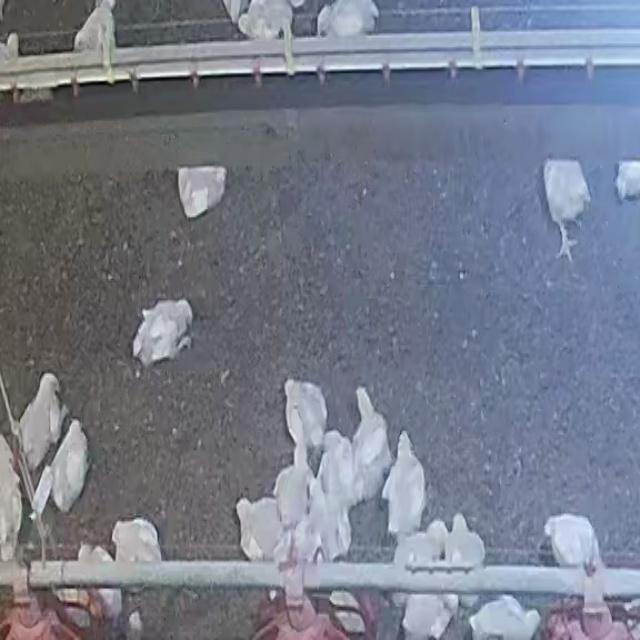chicken: (381, 429, 430, 542), (14, 366, 68, 464), (44, 416, 93, 512), (348, 381, 391, 485), (134, 298, 198, 367), (278, 373, 326, 452)
